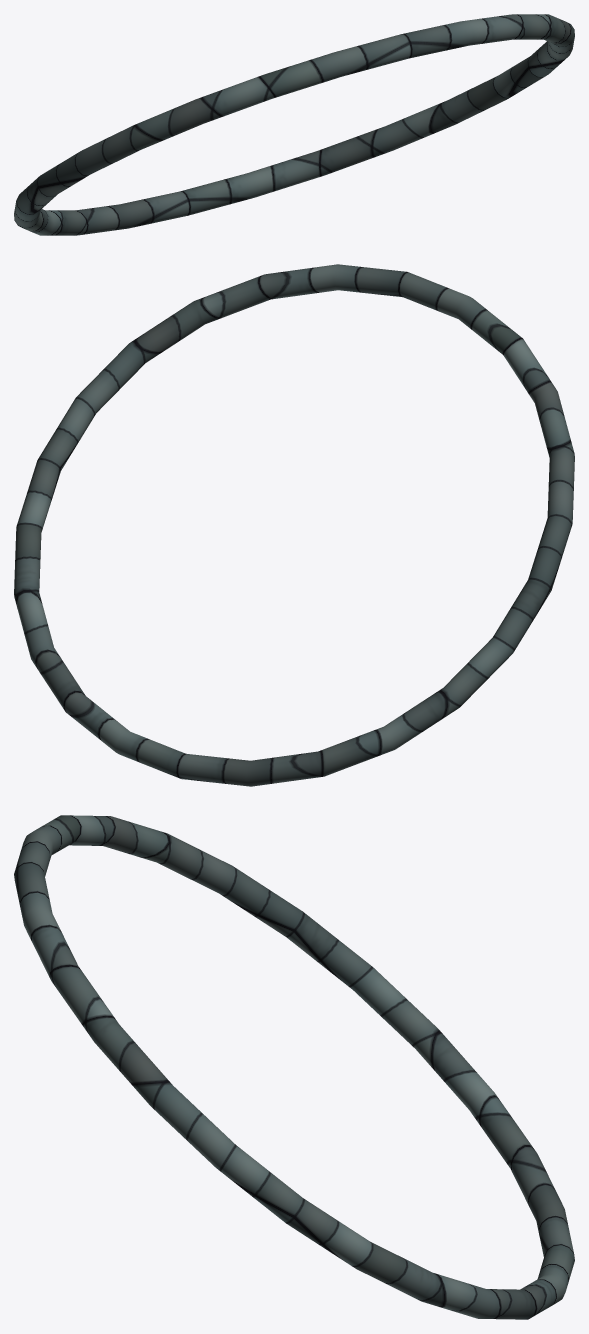
Rendered from aro4.obj.
The picture shows the model from 3 angles, top to bottom: view 1: azimuth 30°, elevation 25°; view 2: azimuth 150°, elevation 25°; view 3: azimuth 270°, elevation 25°; orthographic projection. The views are drawn at different scales.
Parts seen in each view (by area): view 1: aro4; view 2: aro4; view 3: aro4.
Part boxes in pixels (<box>): aro4: <box>14,14,574,235</box>; aro4: <box>14,264,574,786</box>; aro4: <box>14,815,574,1319</box>.
Size of the model in its own units: 72.58 by 46.34 by 57.45.
Materials: 1 (1 with a texture image).
